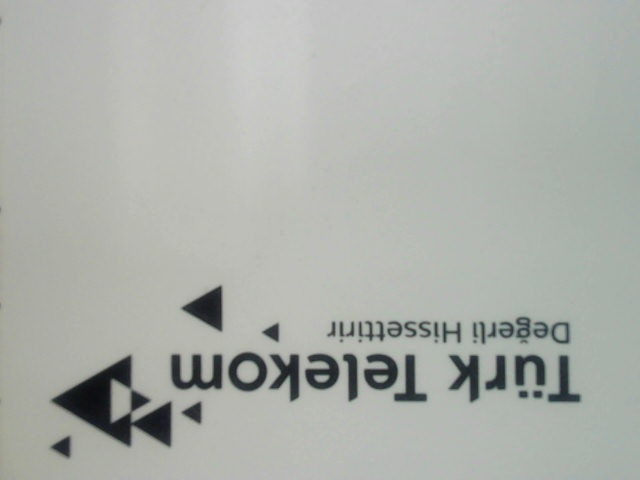AQ_TURKTelekom: (34, 285, 591, 466)
